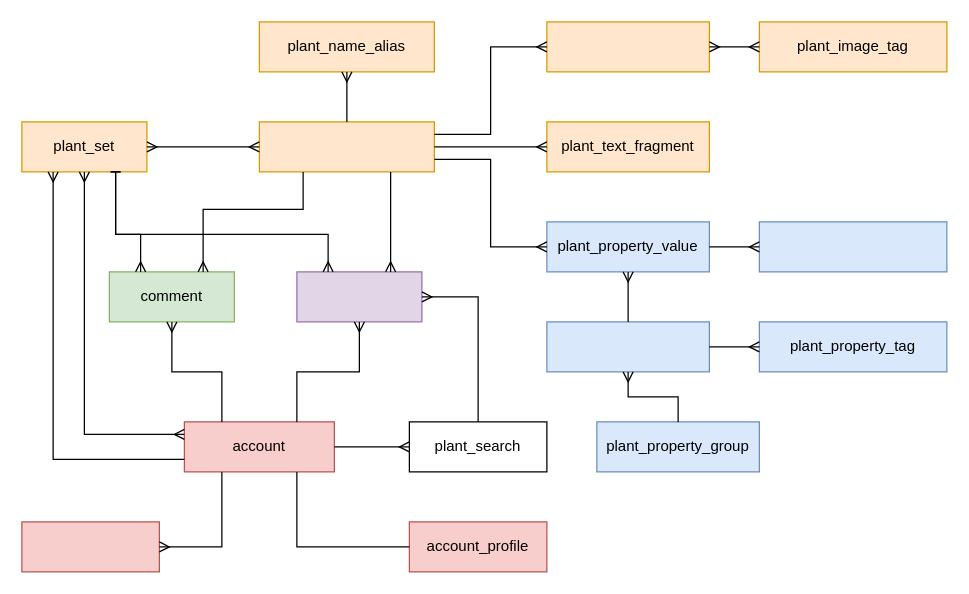
This 969x594 diagram has some shape labels left out. Each missing label, with the centre of its shape:
account_login: (x=90, y=546)
favorite: (x=359, y=296)
plant: (x=346, y=146)
plant_image: (x=627, y=46)
plant_property: (x=627, y=346)
plant_property_value_tag: (x=852, y=246)
